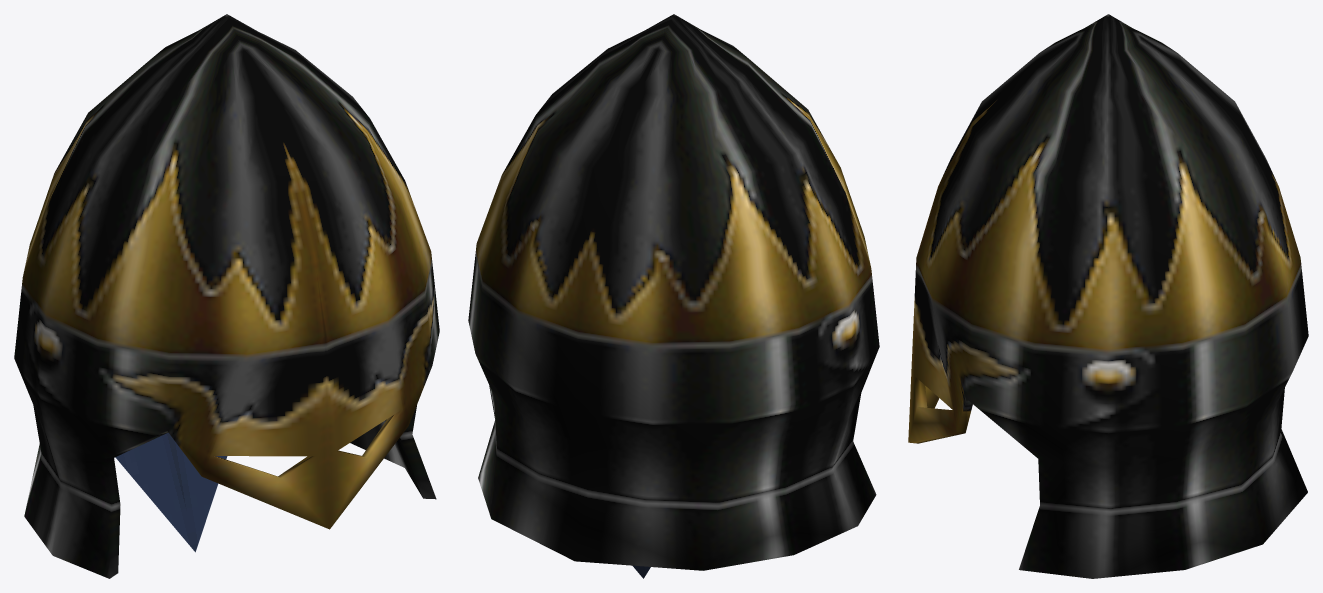
3 views of the same model, side by side, from view 1: azimuth 30°, elevation 25°; view 2: azimuth 150°, elevation 25°; view 3: azimuth 270°, elevation 25° (orthographic). The views are drawn at different scales.
Visible parts, largest first — view 1: IT540_DMSPRITEDEF_node; view 2: IT540_DMSPRITEDEF_node; view 3: IT540_DMSPRITEDEF_node.
Boxes of the visible parts, left/top/right/bottom form: IT540_DMSPRITEDEF_node: left=14, top=14, right=439, bottom=578; IT540_DMSPRITEDEF_node: left=468, top=14, right=879, bottom=578; IT540_DMSPRITEDEF_node: left=908, top=14, right=1308, bottom=578.
Bounding box in the file's own units: 0.6471 × 0.9249 × 0.614.
2 materials, 2 textured.
